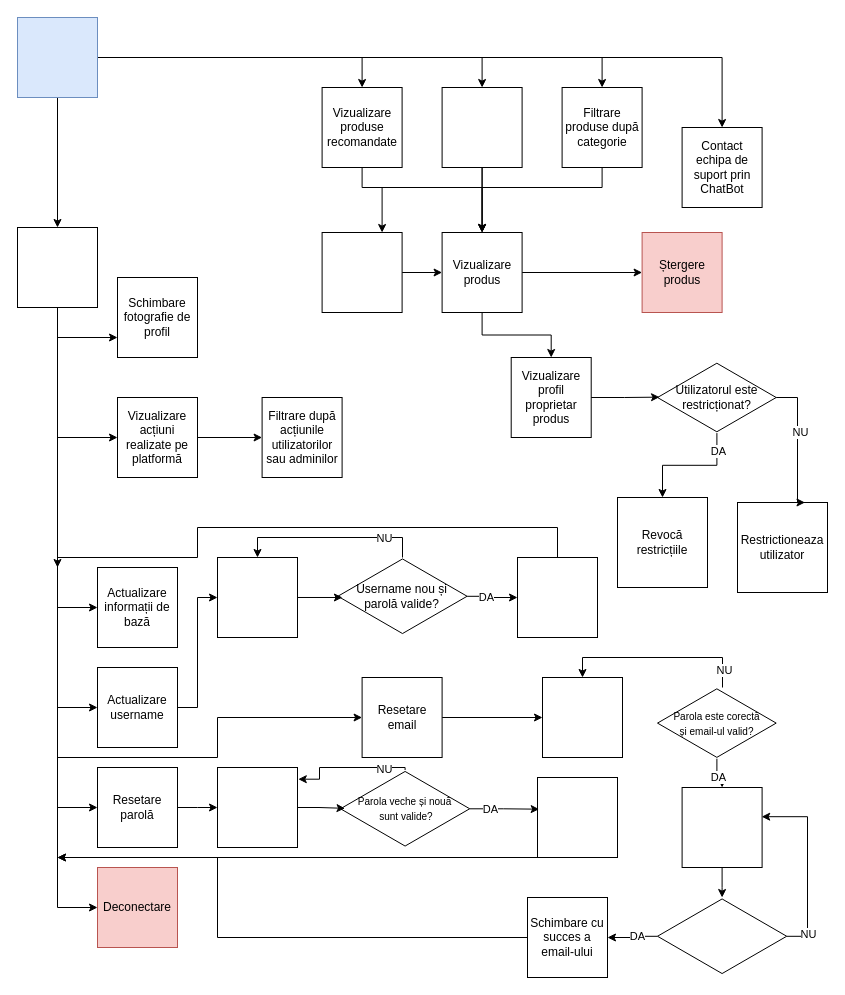
This 845x995 diagram has some shape labels left out. The shapes that lost their labels are listed below. From the top down, each one's centre as x and y in pixels, then its label:
At point (57, 57): "Accesare Platformă".
At point (481, 127): "Căutare produse".
At point (57, 267): "Vizualizare profil utilizator".
At point (361, 272): "Aplicare criteriu de sortare produse".
At point (257, 597): "Introducere username nou și parolă".
At point (557, 597): "Schimbare cu succes a username-ului".
At point (582, 717): "Introducere email nou și parolă".
At point (257, 807): "Introducere parolă veche și cea nouă".
At point (577, 817): "Schimbare cu succes a parolei".
At point (721, 827): "Introducere cod de securitate trimis pe mail".
At point (721, 935): "Codul este corect?".
